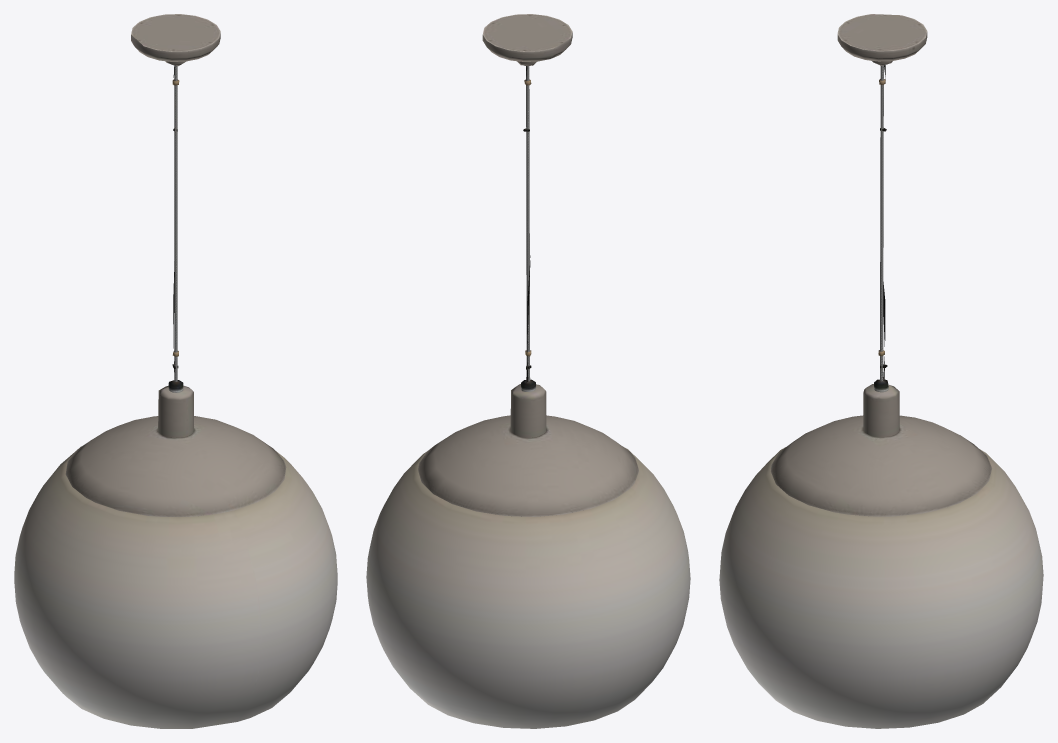
File: pendant_globe.glb
3 renders of one model, left to right at view 1: azimuth 30°, elevation 25°; view 2: azimuth 150°, elevation 25°; view 3: azimuth 270°, elevation 25°, orthographic.
Parts seen in each view (by area): view 1: modern_ceiling_lamp_01; view 2: modern_ceiling_lamp_01; view 3: modern_ceiling_lamp_01.
Part boxes in pixels (box(x1,y1,x2,y2)): modern_ceiling_lamp_01: box(14, 14, 337, 728); modern_ceiling_lamp_01: box(366, 14, 690, 728); modern_ceiling_lamp_01: box(719, 14, 1043, 728).
Bounding box in the file's own units: 0.4316 × 0.9512 × 0.4316.
Materials: 2 (2 with a texture image).
